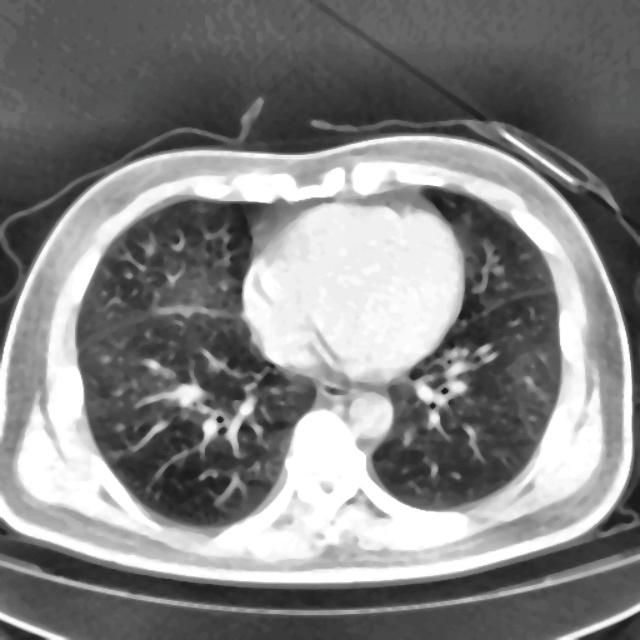covid: (1, 121, 636, 586)
